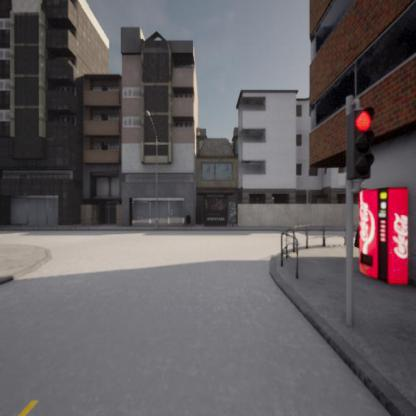traffic_light_red: (351, 108, 375, 180)
